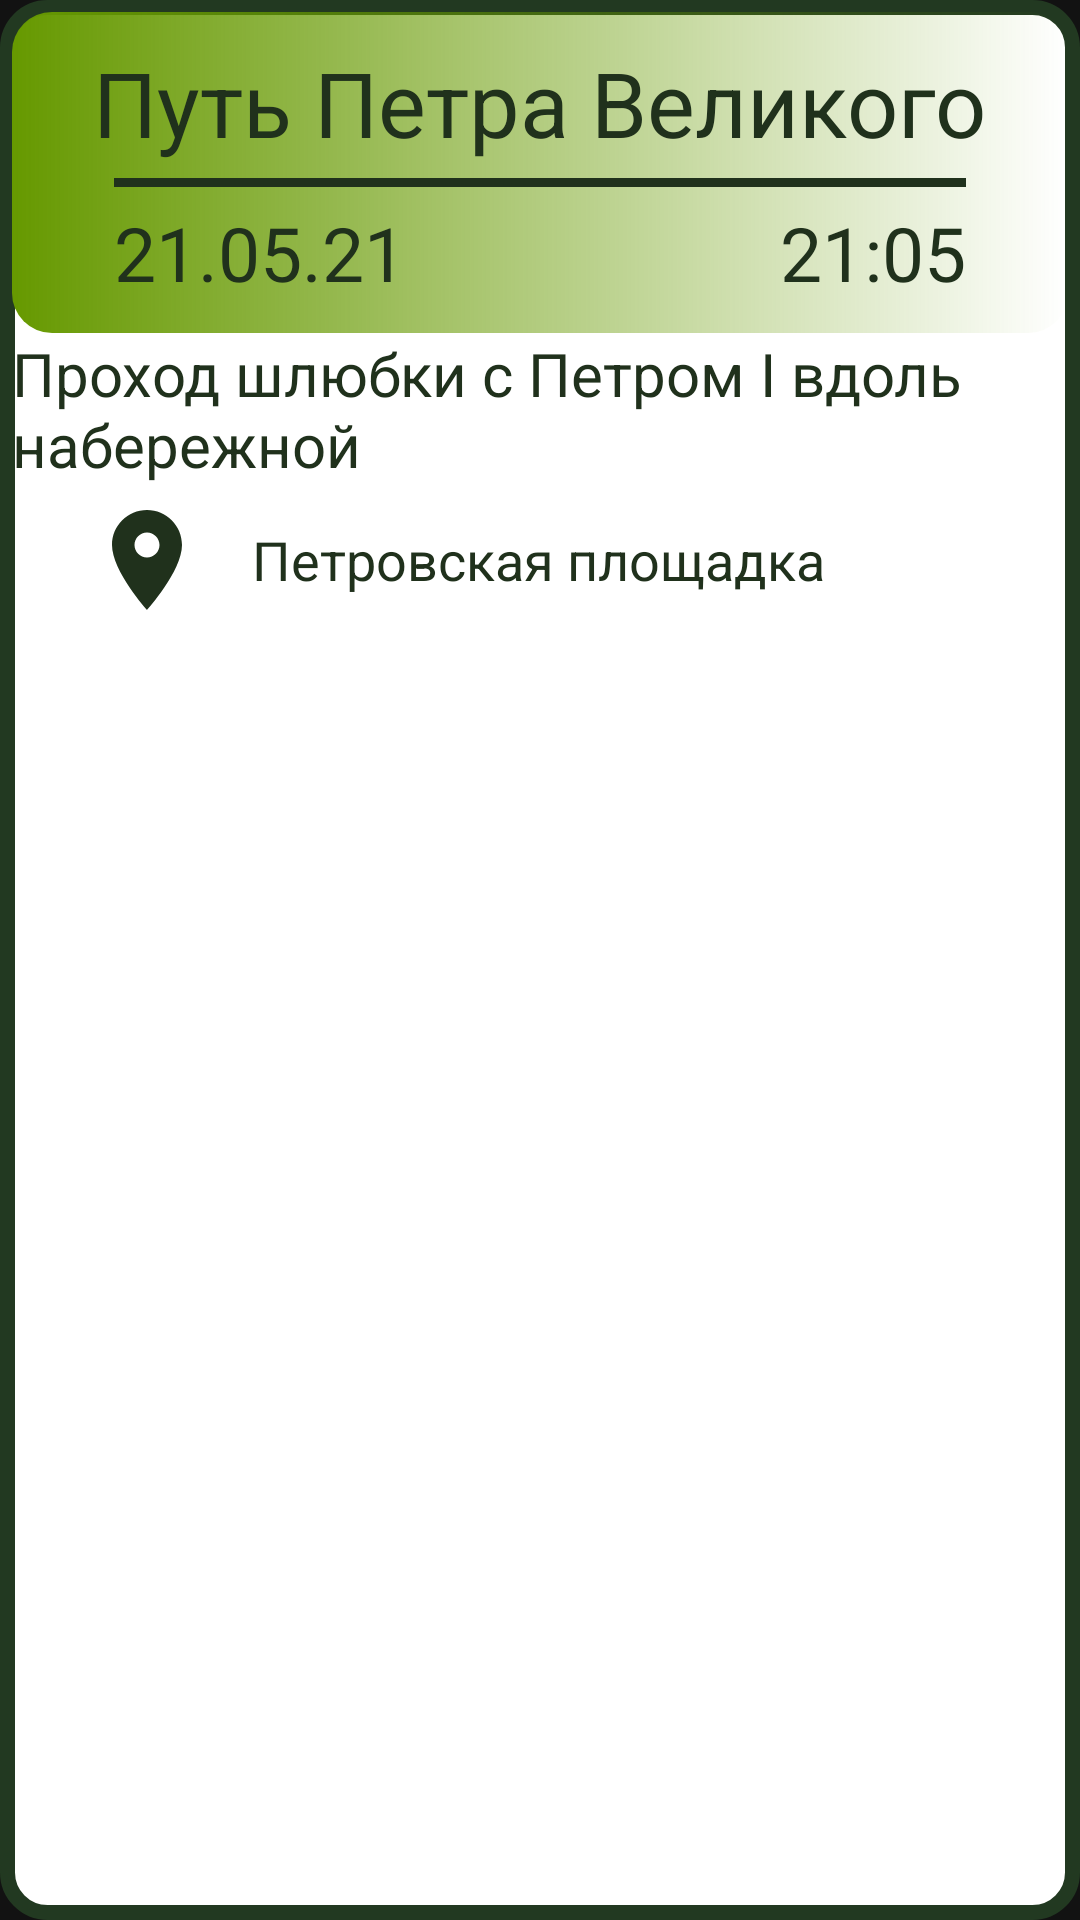

Named icons in this screenshot (1080px x 1920px) and their bounding boxes, box(x1, y1, x2, y2):
site location: box(112, 510, 182, 610)
